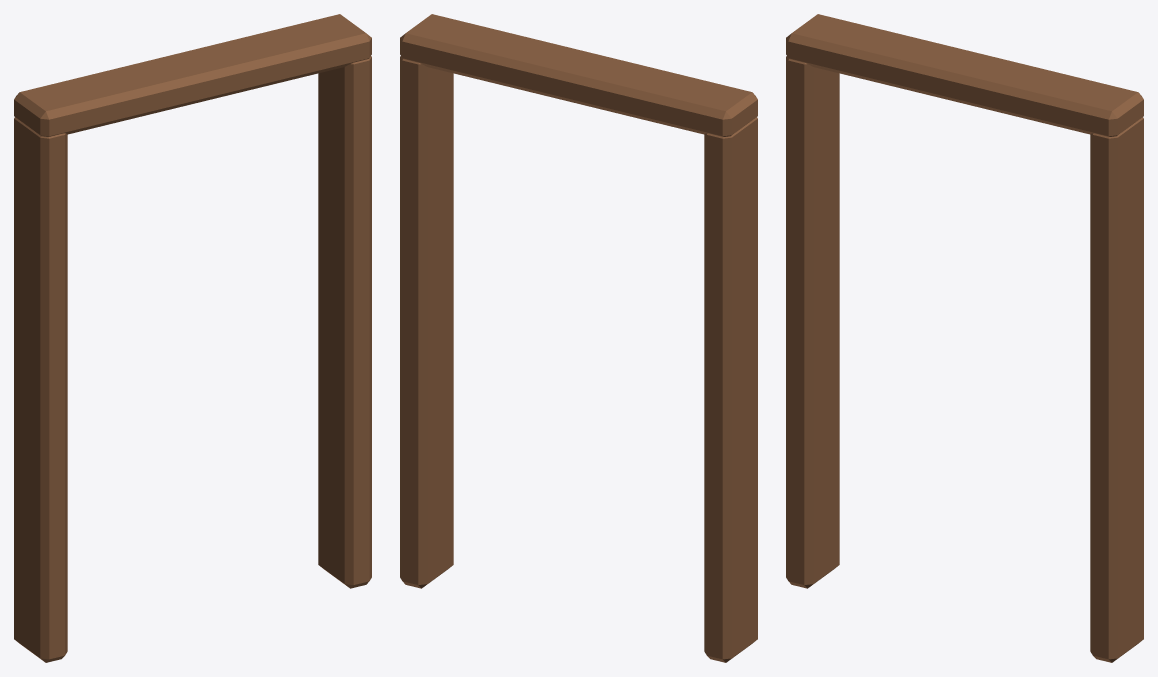
File: Door_Frame.glb
3 views of the same model, side by side, from view 1: azimuth 30°, elevation 25°; view 2: azimuth 150°, elevation 25°; view 3: azimuth 330°, elevation 25° (orthographic).
Parts seen in each view (by area): view 1: Door_Frame__立方体, Door_Frame__立方体.001, Door_Frame__立方体.002; view 2: Door_Frame__立方体, Door_Frame__立方体.001, Door_Frame__立方体.002; view 3: Door_Frame__立方体.001, Door_Frame__立方体, Door_Frame__立方体.002.
Part boxes in pixels (left/top/right/bottom): Door_Frame__立方体: left=14, top=117, right=67, bottom=662; Door_Frame__立方体.001: left=318, top=56, right=371, bottom=588; Door_Frame__立方体.002: left=14, top=14, right=371, bottom=136; Door_Frame__立方体: left=704, top=117, right=757, bottom=662; Door_Frame__立方体.001: left=400, top=56, right=453, bottom=588; Door_Frame__立方体.002: left=400, top=14, right=757, bottom=136; Door_Frame__立方体.001: left=1090, top=117, right=1143, bottom=662; Door_Frame__立方体: left=786, top=56, right=839, bottom=588; Door_Frame__立方体.002: left=786, top=14, right=1143, bottom=136.
Bounding box in the file's own units: 1.46 × 2.32 × 0.25.
